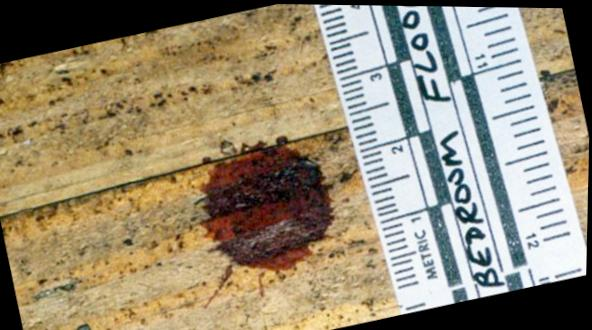Fire: (195, 136, 336, 297)
